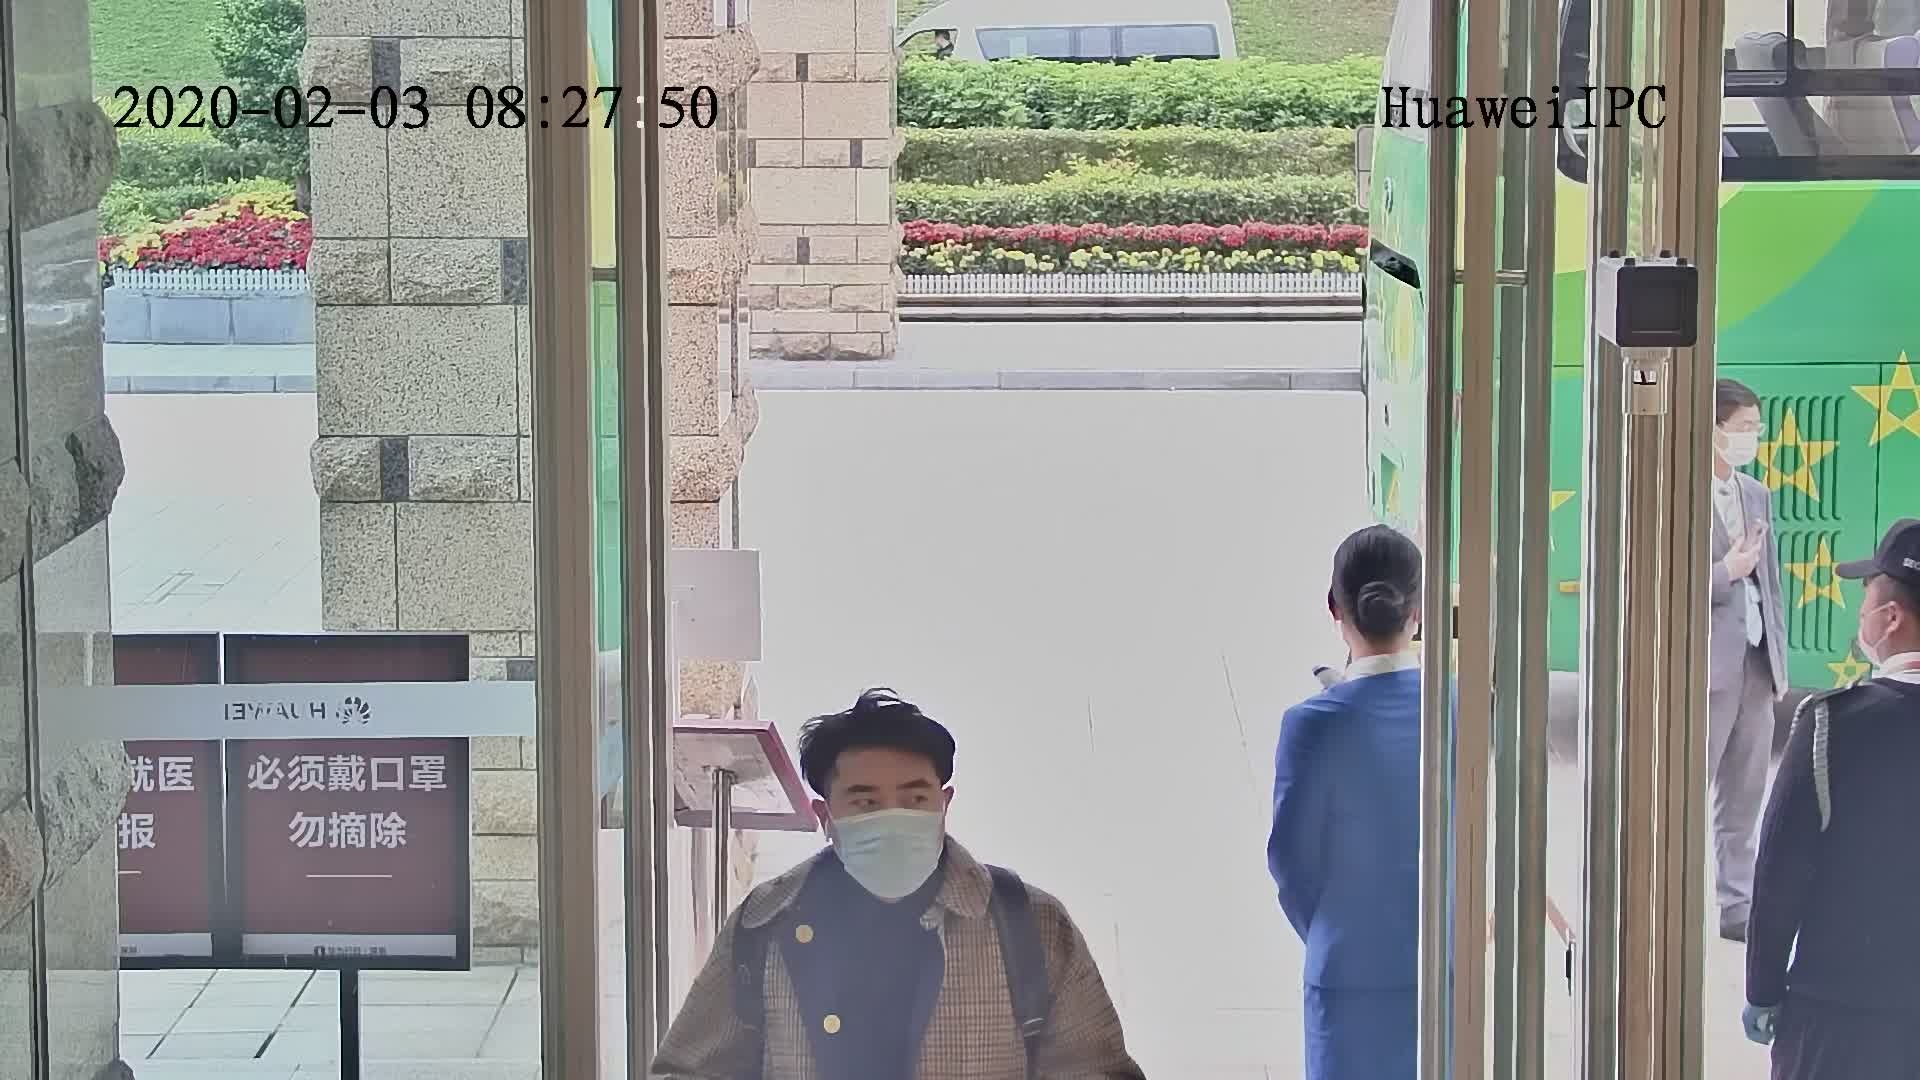face: (816, 745, 950, 878), (1723, 411, 1763, 478)
mask: (836, 806, 947, 904), (1725, 426, 1765, 471)
person: (736, 682, 1069, 965), (1275, 520, 1431, 772), (1786, 519, 1920, 778), (1703, 376, 1772, 520)
